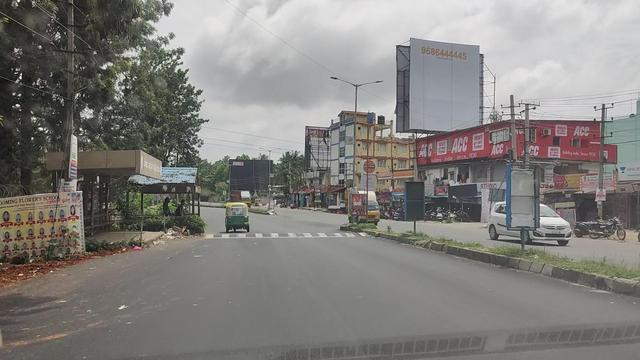LMV: (224, 201, 249, 232)
SpeedBump: (205, 230, 368, 240)
